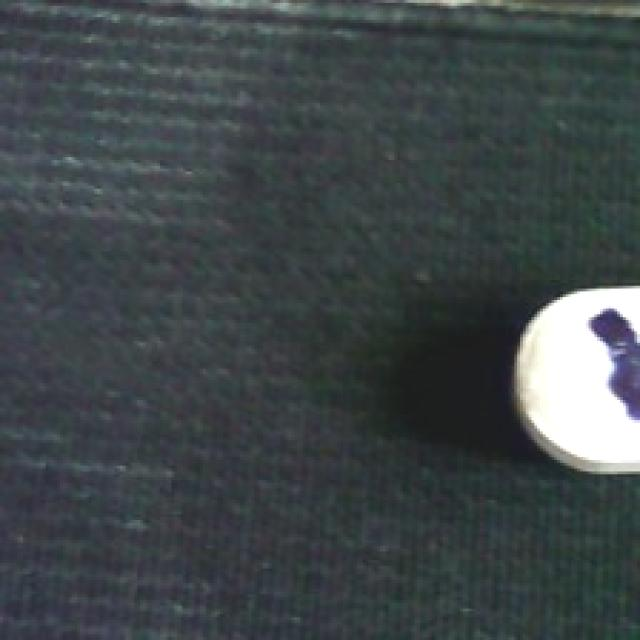defected: (505, 278, 640, 478)
